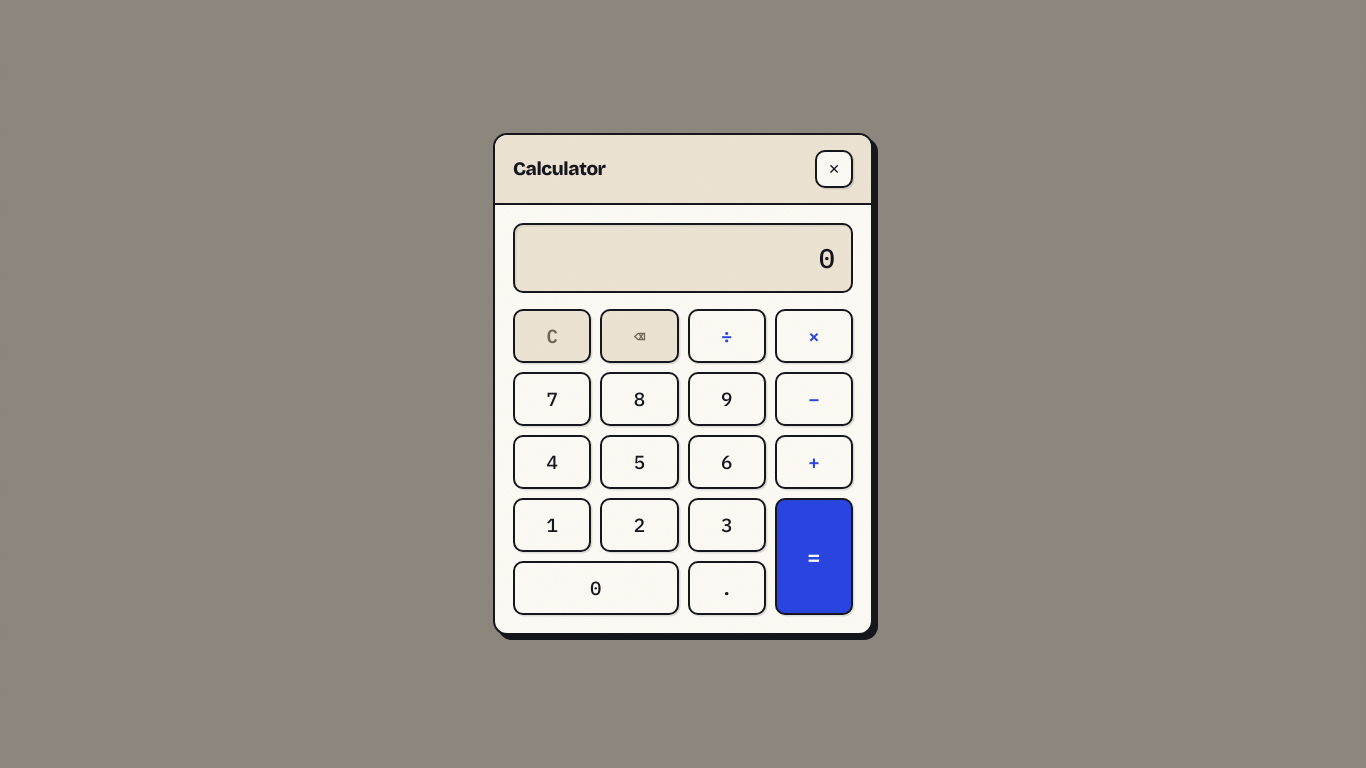
Scenario: Calculator UI › evaluates a digit + operator sequence
The width and height of the screenshot is (1366, 768).
Click the button "7" at (552, 399), box [513,372,591,426]
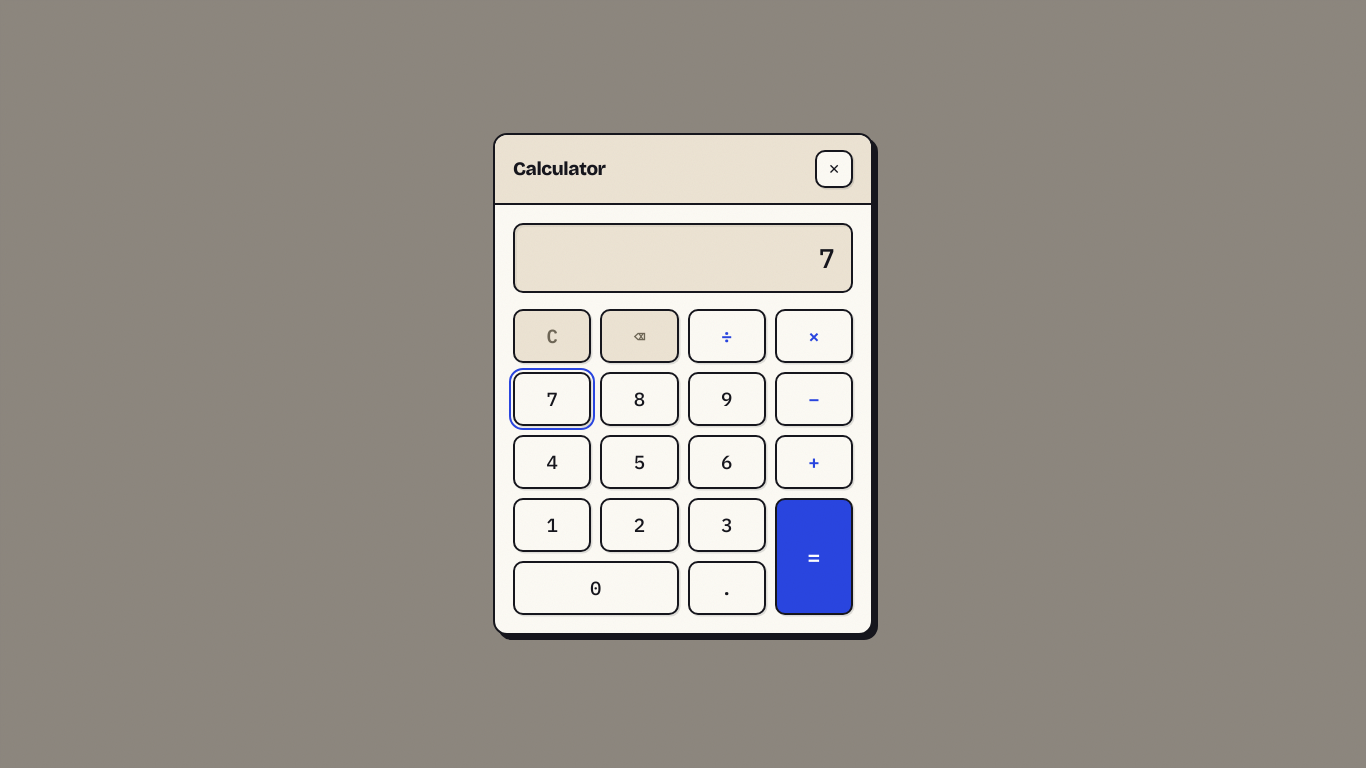
Click the button "+" at (814, 462), box [775,435,853,489]
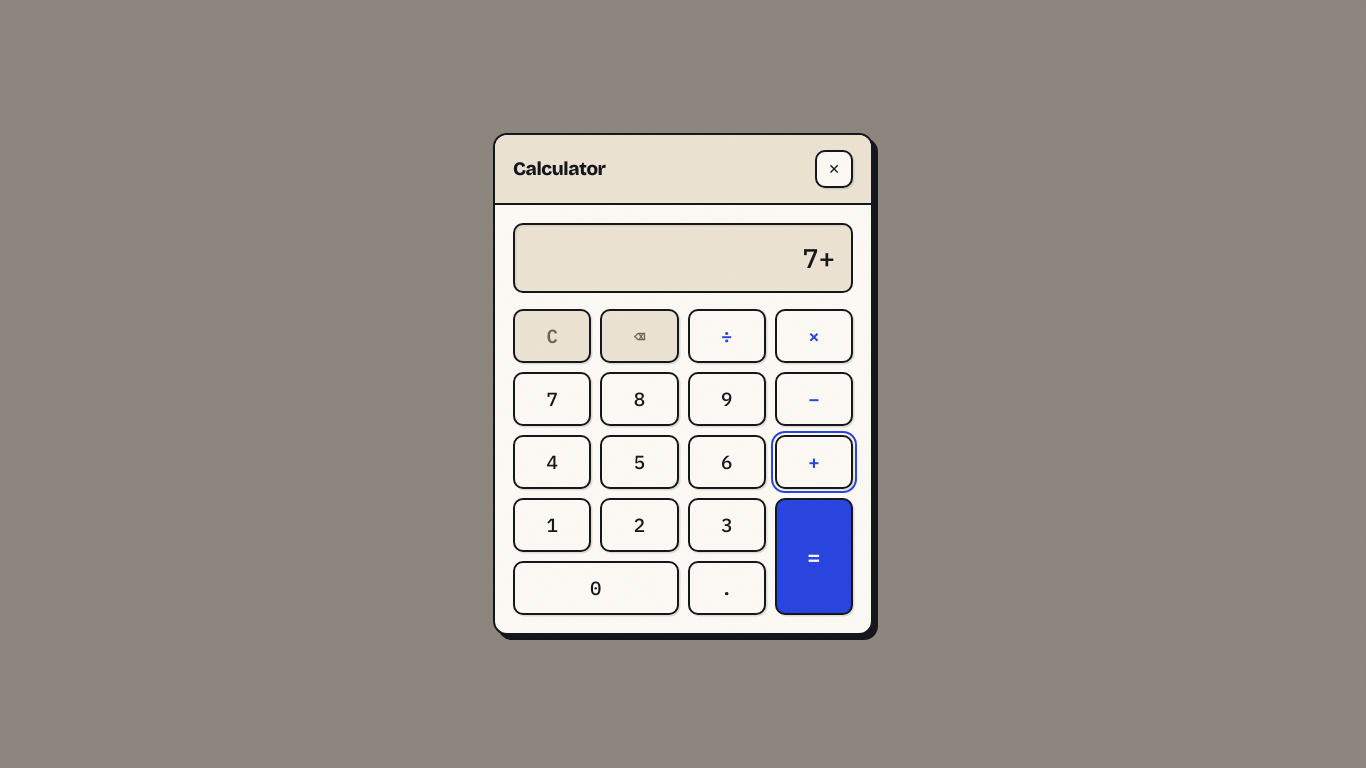
Click the button "8" at (639, 399), box [600,372,679,426]
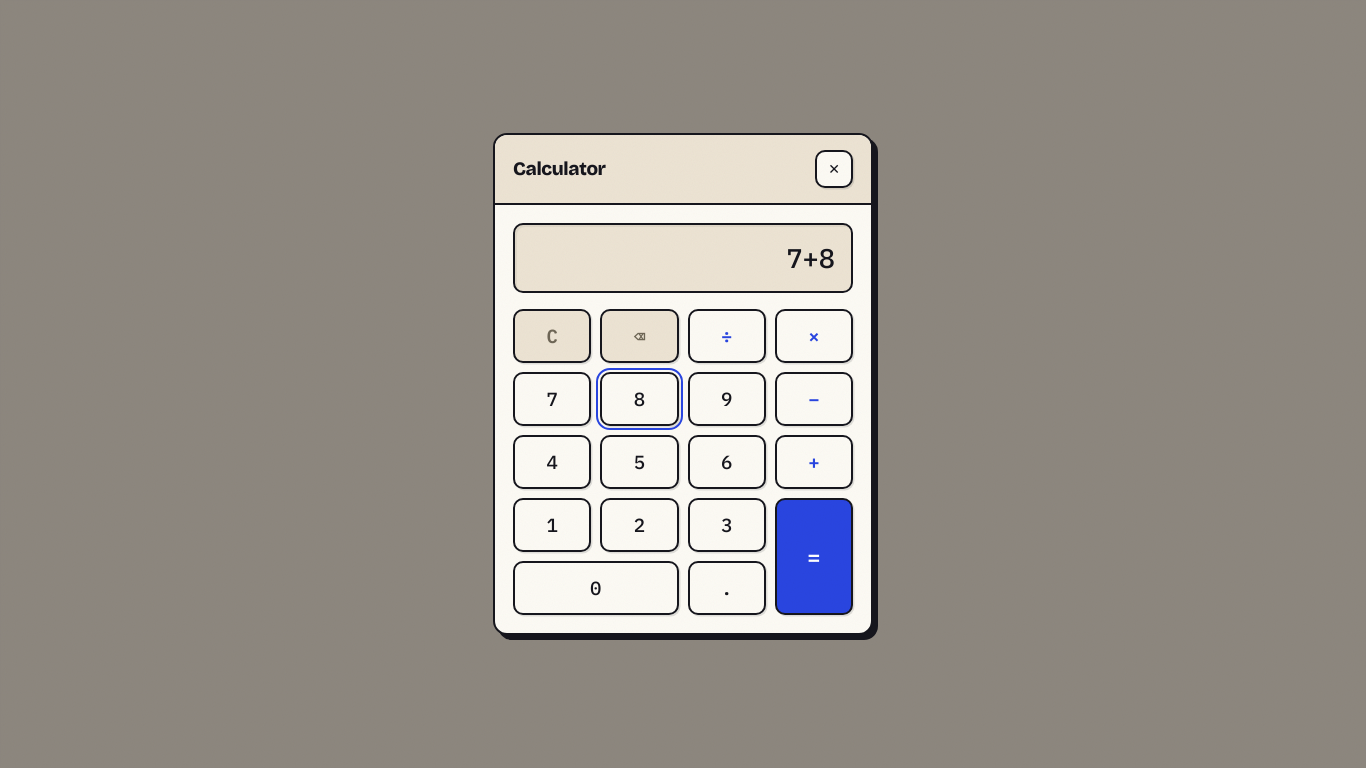
Click the button "=" at (814, 556), box [775,498,853,615]
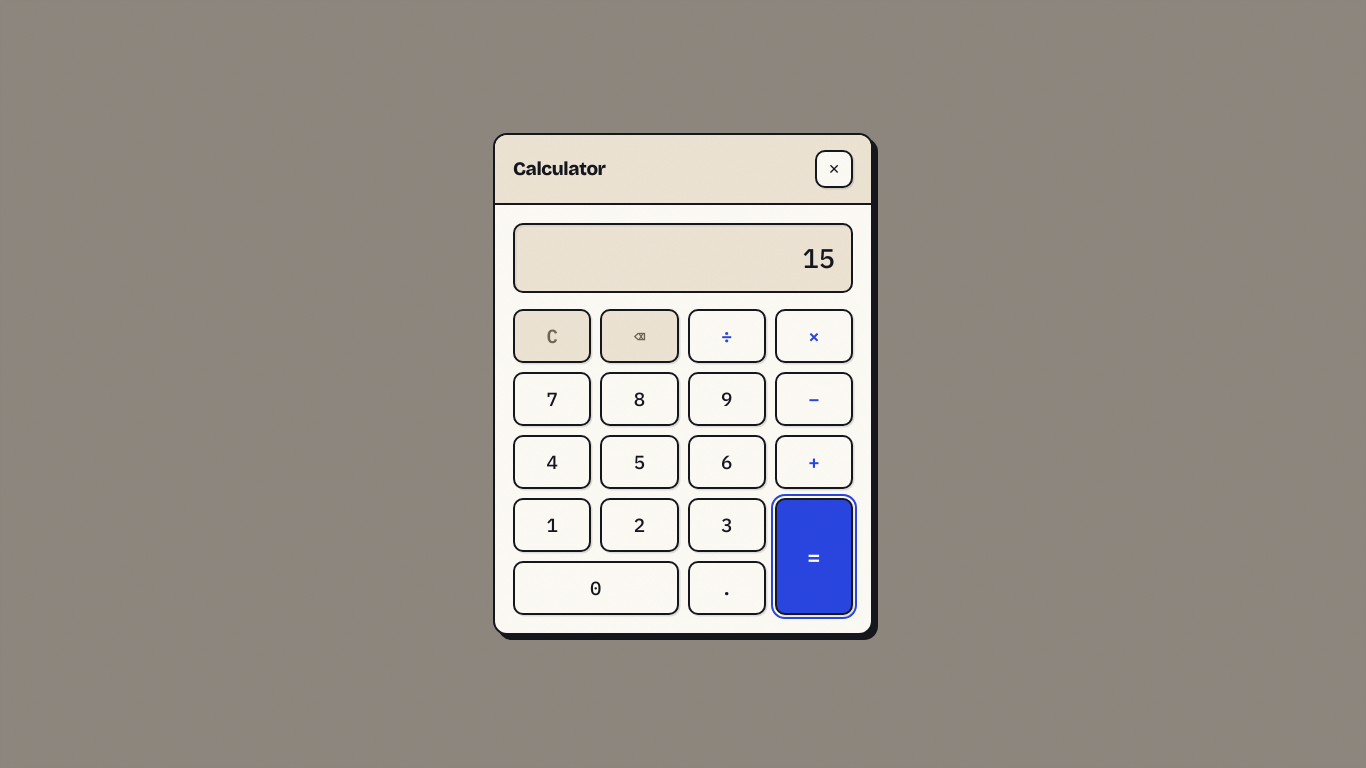
Check: the text with test id "calc-display" reads "15", box [803,240,835,275]
